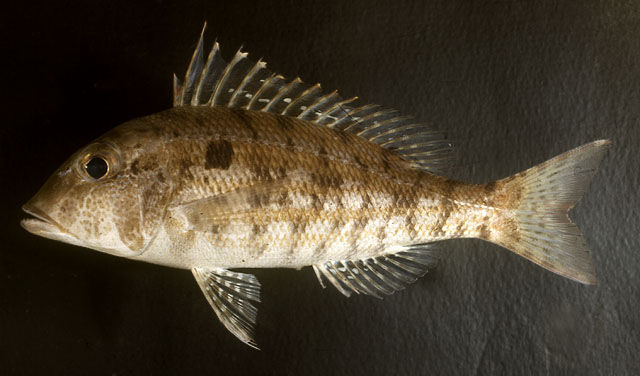fish: (20, 22, 616, 352)
